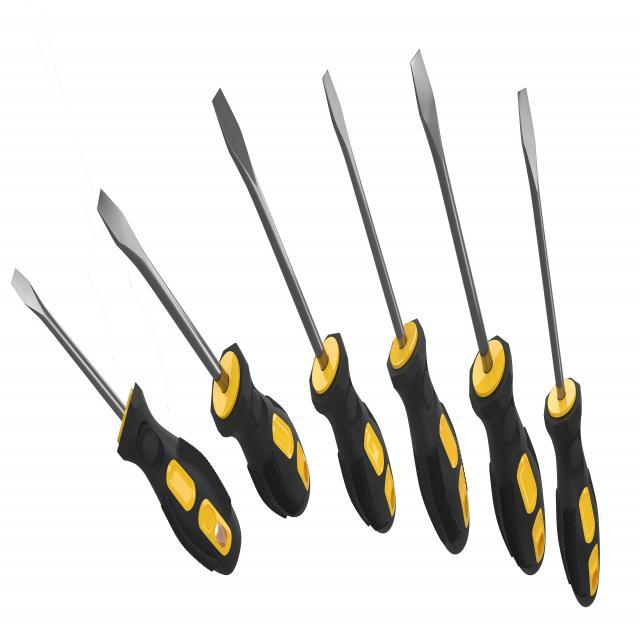screwdriver: (208, 87, 396, 533), (95, 181, 312, 525), (406, 44, 546, 577), (321, 64, 471, 558), (8, 264, 242, 574), (514, 82, 606, 610)
